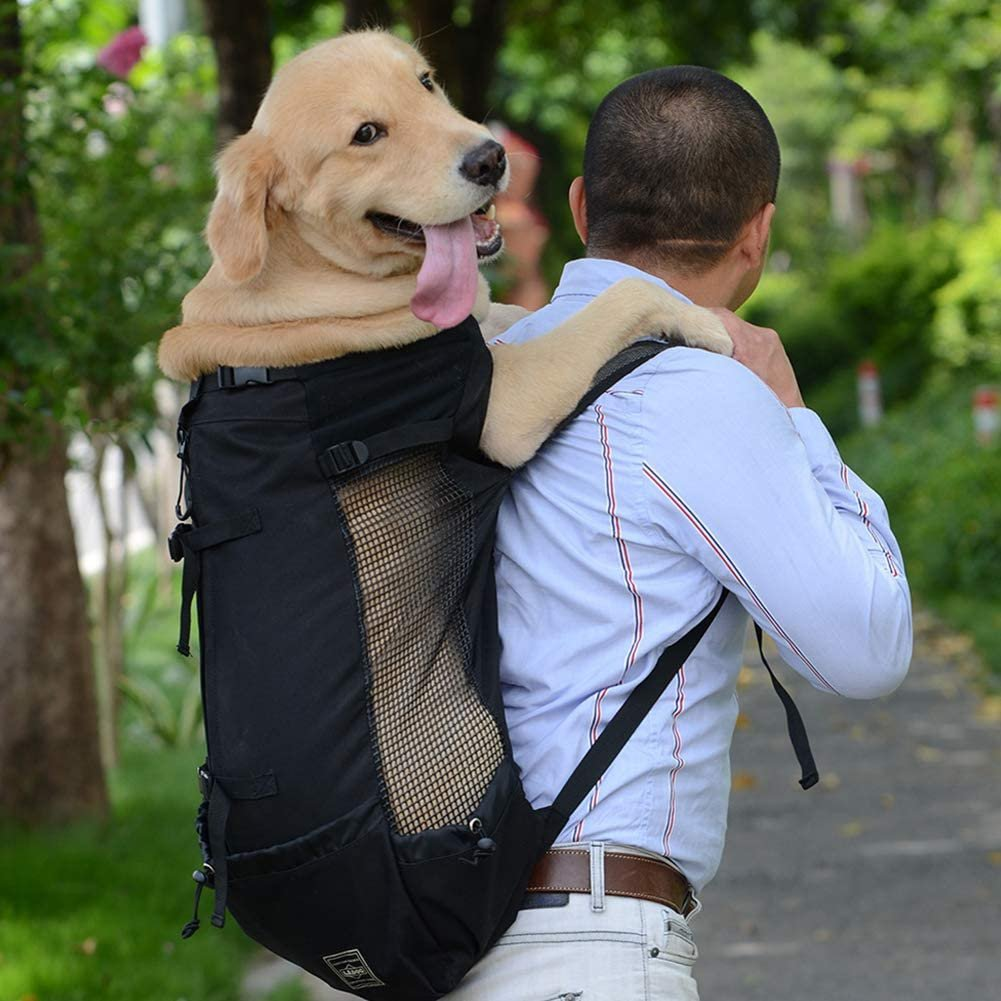dog: (169, 16, 562, 637)
